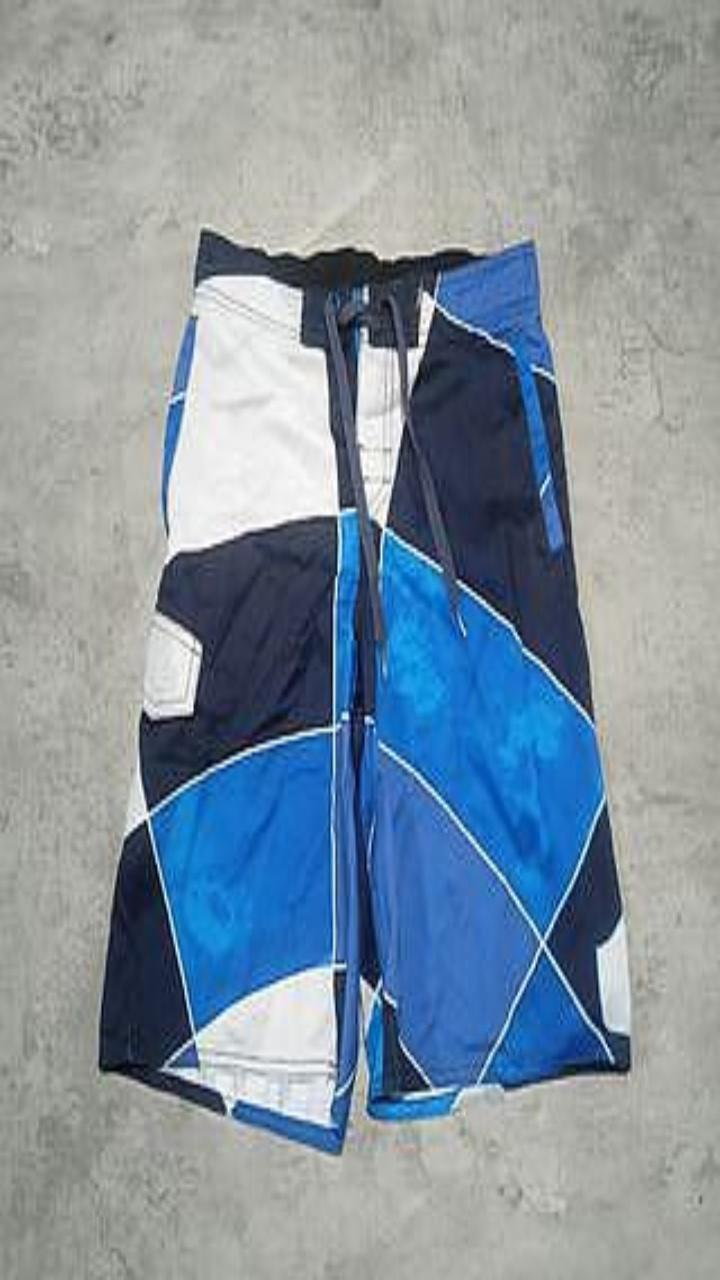Shorts: (101, 232, 629, 1150)
